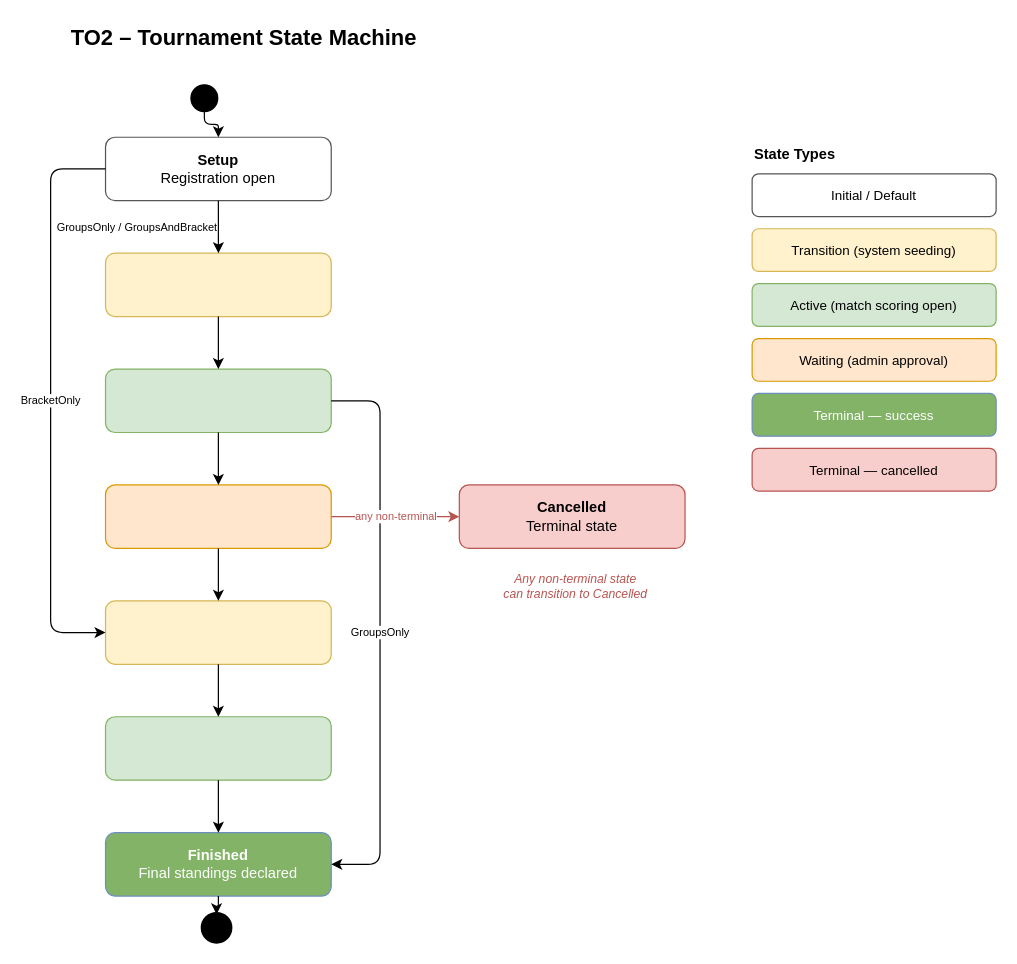
This 1017x964 diagram has some shape labels left out. The box of each missing label's shape, as (x1, y1, x2, y2) in pixels:
BracketInProgress Scoring bracket matches: (104, 716, 331, 780)
GroupsCompleted Awaiting bracket start: (104, 484, 331, 548)
GroupsInProgress Scoring group matches: (104, 368, 331, 432)
SeedingBracket Building bracket draw: (104, 600, 331, 664)
SeedingGroups Distributing teams into groups: (104, 252, 331, 317)
